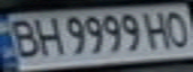9: (60, 12, 87, 56), (121, 10, 148, 53), (81, 12, 106, 55), (103, 11, 127, 54)
B: (3, 16, 42, 60)
H: (142, 8, 175, 51), (30, 14, 63, 57)
O: (160, 7, 193, 48)
